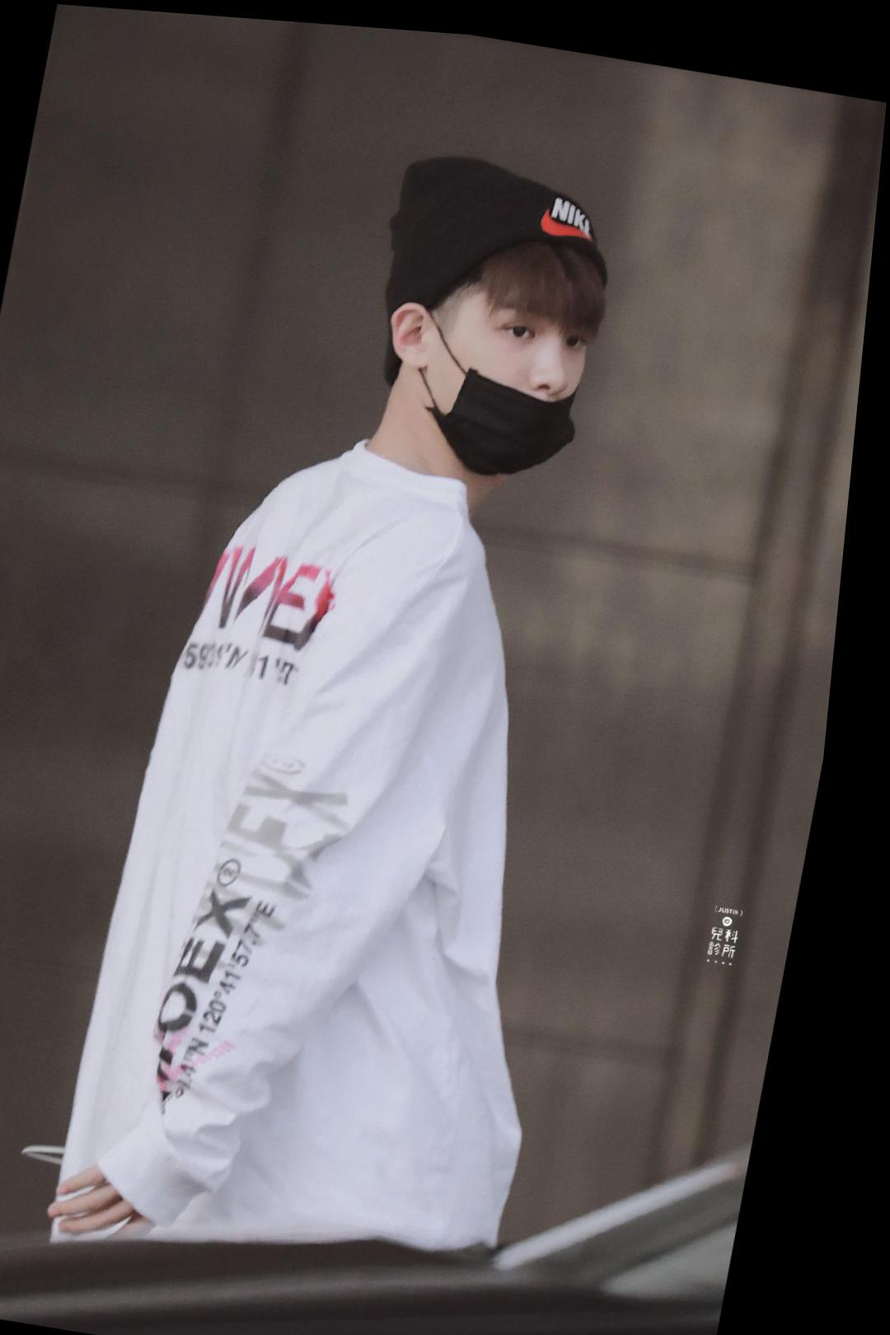WRONG: (431, 253, 606, 479)
